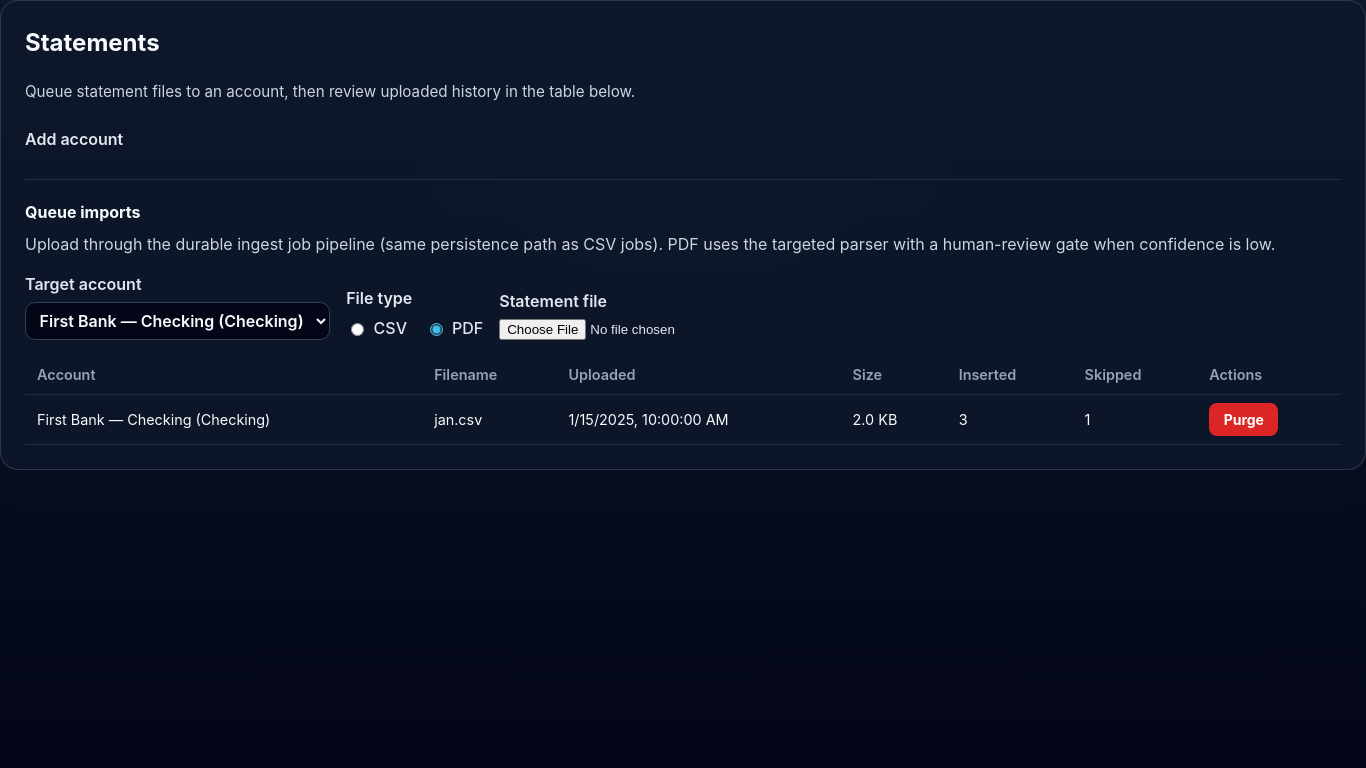
Test: StatementsPage › shows inline confirmation when Purge is clicked
What coordinates should you click on to do the following:
click the button "Purge"
I would click on:
 (1244, 419)
Its box is [1209, 402, 1278, 436].
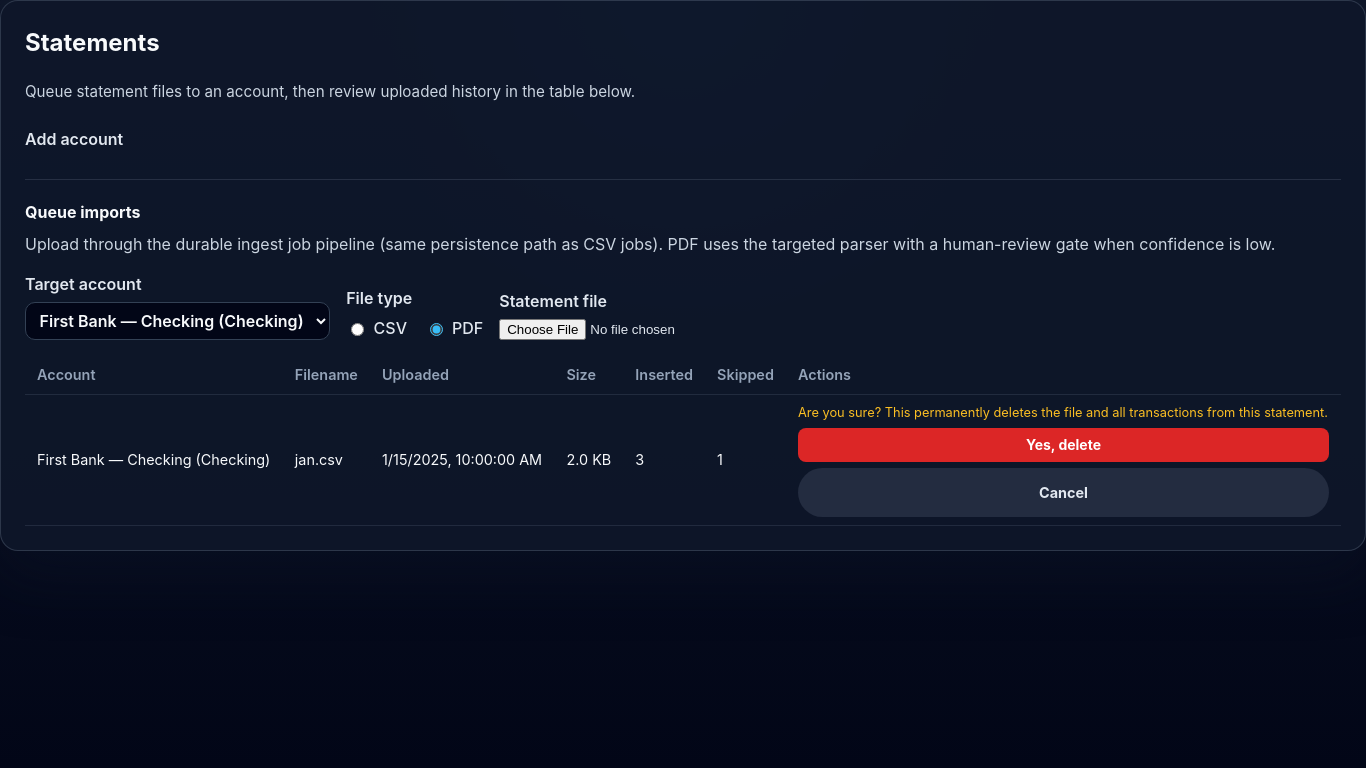
Expected: the text "Are you sure" is shown, [798, 404, 1328, 420]
Expected: the button "Yes, delete" is shown, [798, 428, 1329, 462]
Expected: the button "Cancel" is shown, [798, 468, 1329, 517]
